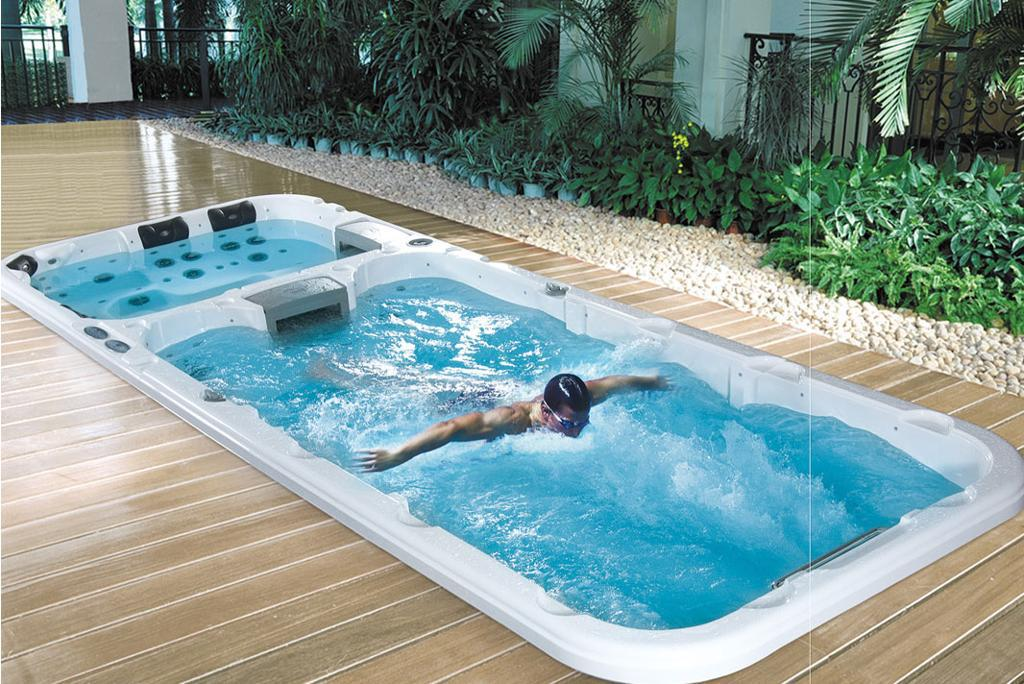face: (554, 408, 590, 441)
